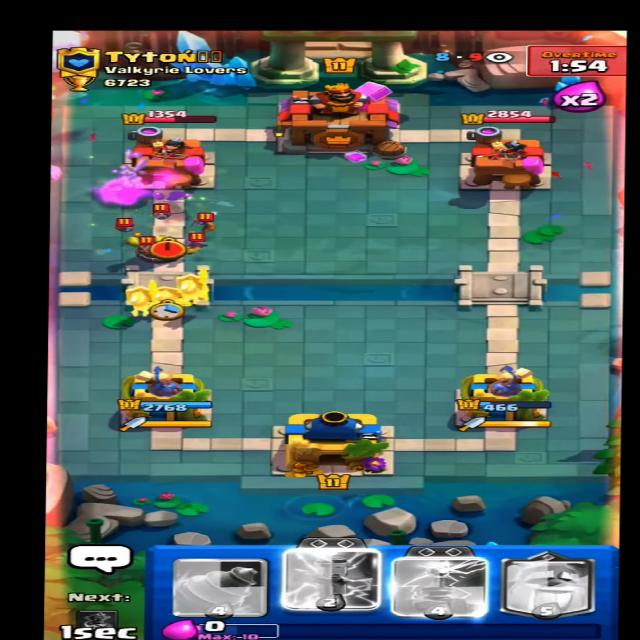Bat: (152, 196, 184, 222), (190, 207, 222, 230), (180, 233, 214, 253), (108, 216, 136, 231)
